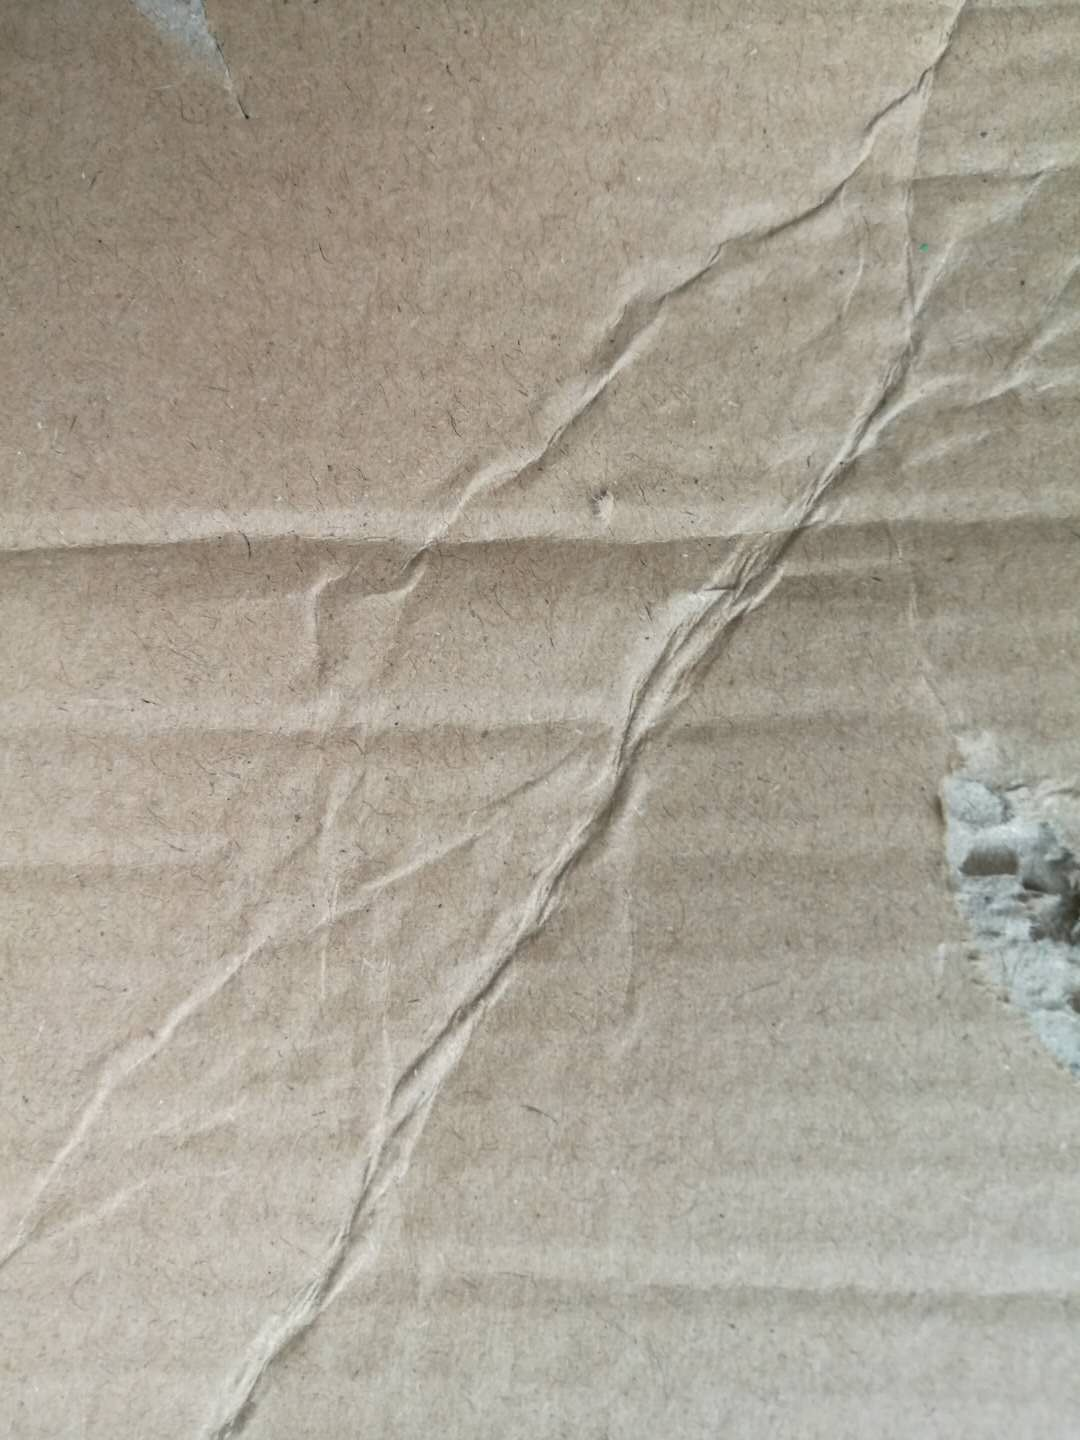defect: (6, 2, 1077, 1440), (5, 413, 1080, 655), (898, 662, 1080, 1104), (109, 5, 275, 132)
